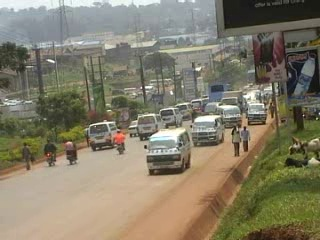Car: (125, 117, 140, 137)
Motorcycle: (40, 136, 60, 170), (63, 136, 80, 166), (113, 127, 129, 155), (189, 105, 199, 123)
